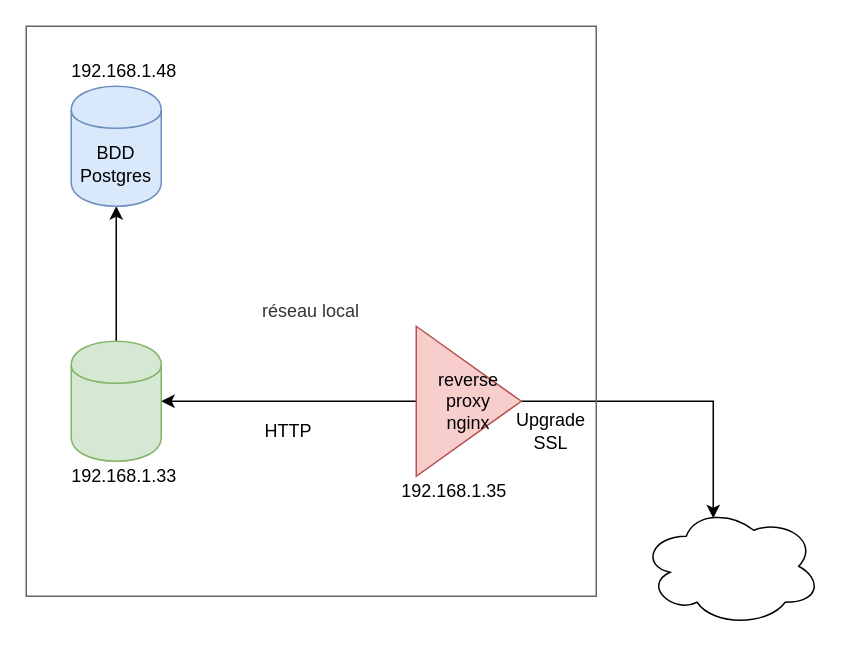
This 848x653 diagram has some shape labels left out. The shapes that lost their labels are listed below. From the top down, each one's centre as x and y in pixels, then its label:
At point 115,400: "serveur web nginx".
At point 730,565: "internet".
